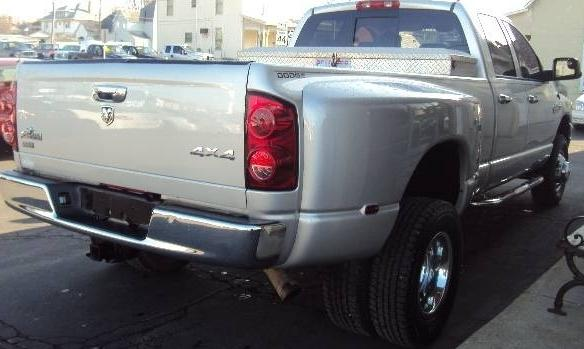back_view: (1, 64, 323, 275)
backlight: (236, 86, 304, 213)
side_glass: (469, 9, 556, 89)
